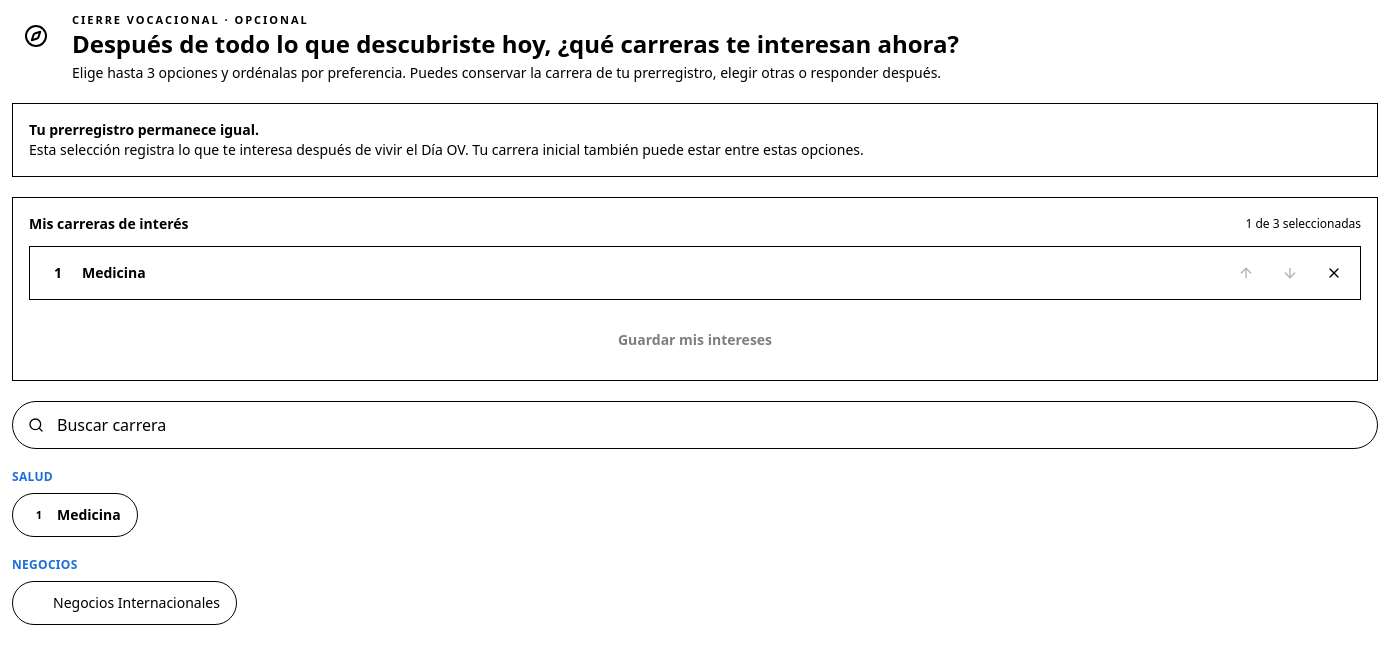
Test case: una respuesta guardada puede retirarse por completo sin dejar una selección vacía como completada
Click the button named "Quitar Medicina" at {"x": 1334, "y": 272}, box [1312,250,1356,294]
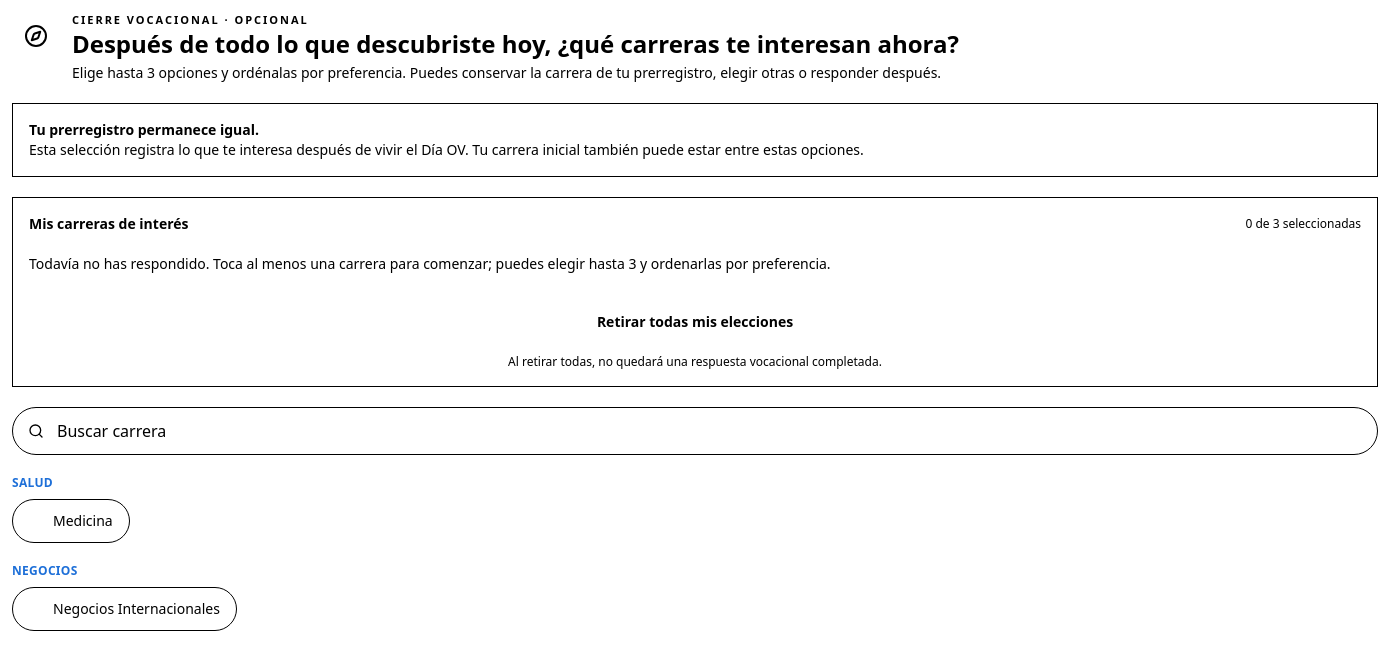
Now the button "Retirar todas mis elecciones" is enabled
Click the button "Retirar todas mis elecciones" at {"x": 695, "y": 322}, box [29,298,1361,346]
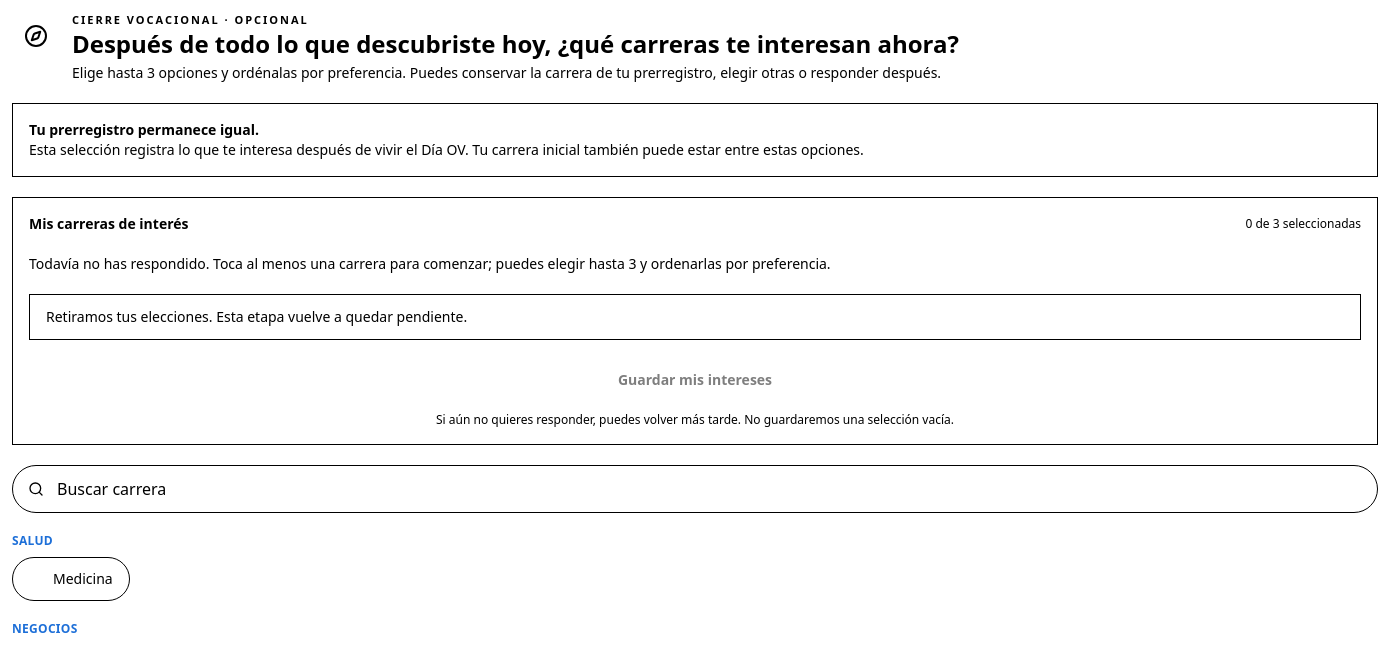
Now the text "Retiramos tus elecciones. Esta etapa vuelve a quedar pendiente." is shown, box [29,294,1361,340]
Now the text "No guardaremos una selección vacía" is shown, box [436,410,954,428]
